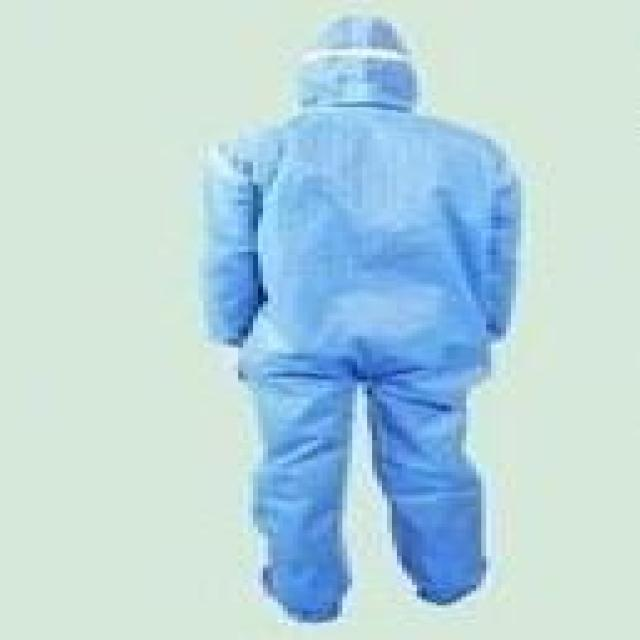Coverall: (214, 9, 571, 611)
